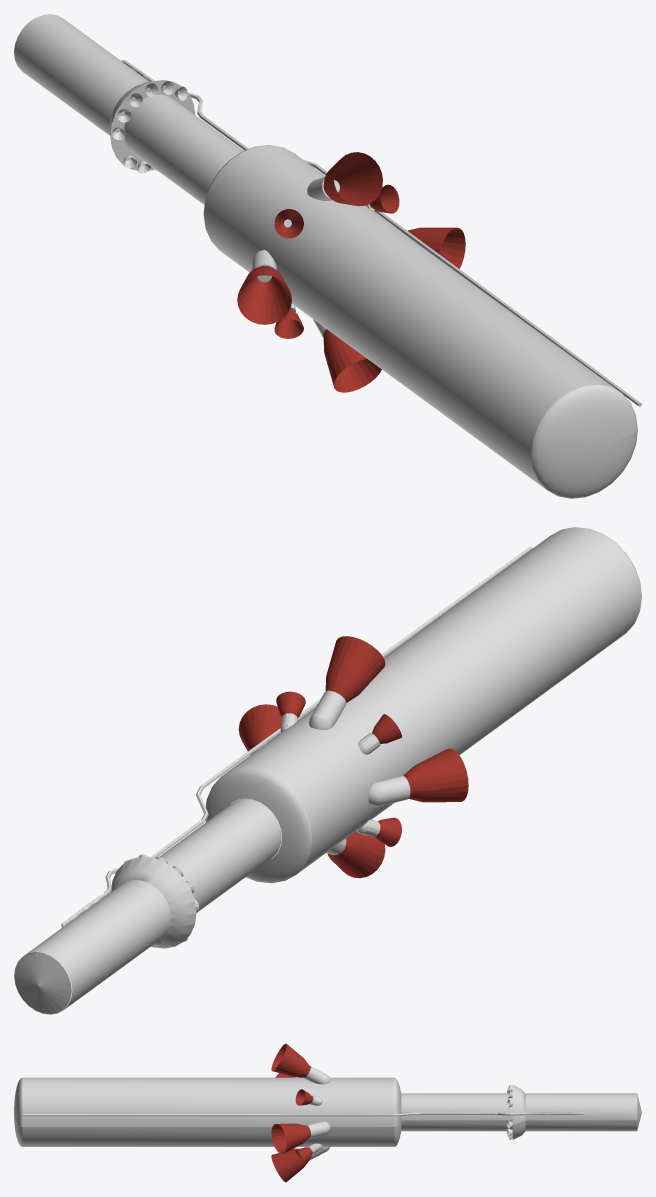
The model's file is r7tmaer.obj.
3 renders of one model, top to bottom at view 1: azimuth 30°, elevation 25°; view 2: azimuth 150°, elevation 25°; view 3: azimuth 270°, elevation 25°, orthographic. The views are drawn at different scales.
Parts seen in each view (by area): view 1: group20, group30, group33, group31, group12, group13, group14, group35, group32, group15; view 2: group20, group33, group31, group29, group32, group34, group13, group12, group35, group14, group15, group22 (+1 smaller); view 3: group20, group33, group31, group35, group15, group12, group14, group32, group30, group29, group21, group24 (+1 smaller).
Part boxes in pixels (bbox=[...]): group20: bbox=[204, 145, 635, 498]; group30: bbox=[531, 384, 637, 498]; group33: bbox=[14, 14, 149, 135]; group31: bbox=[124, 94, 243, 204]; group12: bbox=[323, 152, 382, 206]; group13: bbox=[237, 266, 291, 324]; group14: bbox=[323, 329, 381, 392]; group35: bbox=[121, 60, 641, 406]; group32: bbox=[109, 80, 195, 170]; group15: bbox=[404, 227, 465, 268]; group20: bbox=[222, 527, 641, 873]; group33: bbox=[14, 879, 171, 1014]; group31: bbox=[160, 799, 281, 912]; group29: bbox=[205, 768, 312, 883]; group32: bbox=[111, 856, 196, 948]; group34: bbox=[14, 953, 71, 1014]; group13: bbox=[403, 748, 468, 802]; group12: bbox=[325, 636, 385, 702]; group35: bbox=[61, 546, 532, 927]; group14: bbox=[327, 830, 385, 878]; group15: bbox=[238, 704, 281, 755]; group22: bbox=[368, 775, 410, 806]; group20: bbox=[22, 1077, 393, 1146]; group33: bbox=[525, 1093, 637, 1131]; group31: bbox=[401, 1093, 512, 1131]; group35: bbox=[23, 1112, 583, 1116]; group15: bbox=[271, 1123, 310, 1153]; group12: bbox=[271, 1043, 310, 1077]; group14: bbox=[271, 1148, 309, 1182]; group32: bbox=[512, 1085, 525, 1139]; group30: bbox=[14, 1078, 22, 1146]; group29: bbox=[394, 1077, 401, 1146]; group21: bbox=[304, 1066, 330, 1084]; group24: bbox=[306, 1121, 330, 1138].
Size of the model in its own units: 1.61 by 1.61 by 6.76.
